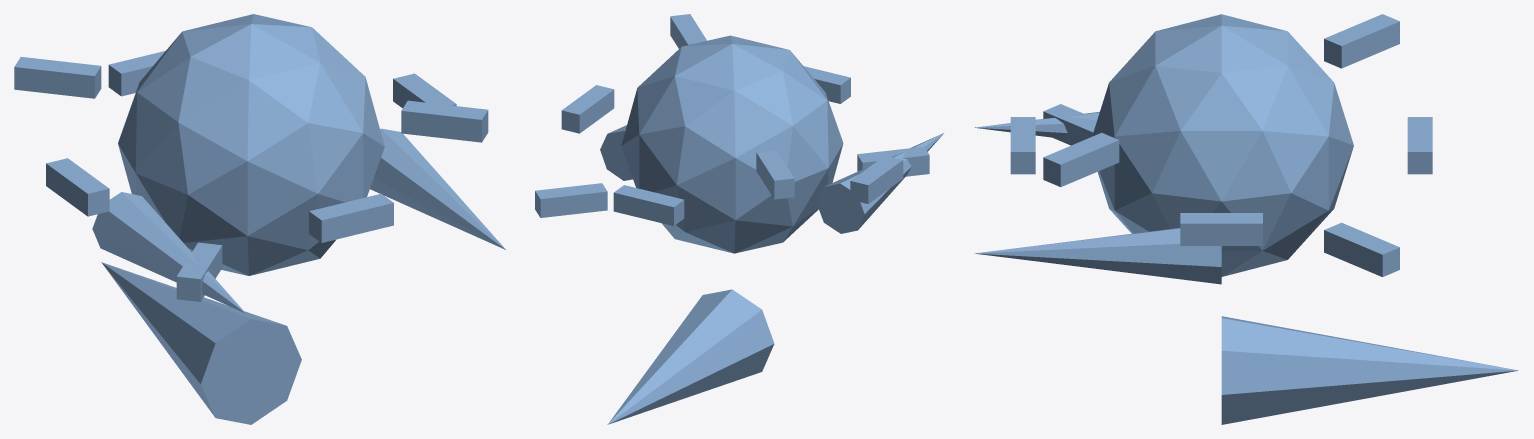
File: StormAtronach_A_Basic.glb
The picture shows the model from 3 angles, left to right: view 1: azimuth 30°, elevation 25°; view 2: azimuth 150°, elevation 25°; view 3: azimuth 270°, elevation 25°; orthographic projection. The views are drawn at different scales.
Visible parts, largest first — view 1: world; view 2: world; view 3: world.
Boxes of the visible parts, x1,y1,x2,y2 form: world: [14, 14, 505, 424]; world: [535, 14, 943, 424]; world: [974, 14, 1518, 424].
Bounding box in the file's own units: 2.55 × 2.65 × 3.3.
